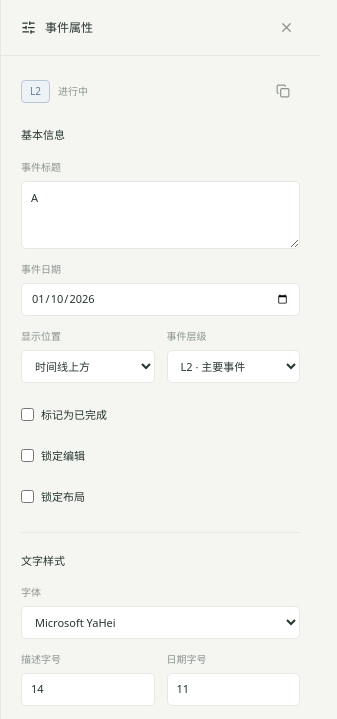
Test: 属性面板与输入焦点 › 非法日期编辑回滚并重置控件，不破坏原日期
Clear the date field labelled "事件日期". click: (160, 300)
box: [21, 283, 300, 316]
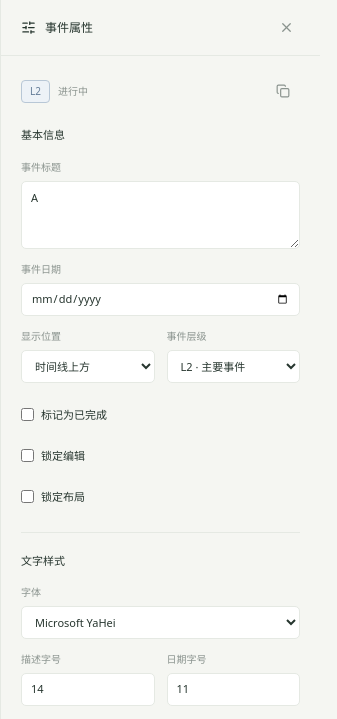
Leave the date field labelled "事件日期", box [21, 283, 300, 316]
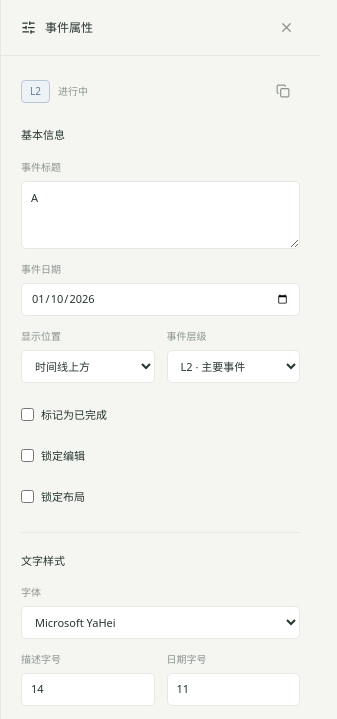
Expected: the date field labelled "事件日期" holds "2026-01-10", [21, 283, 300, 316]
